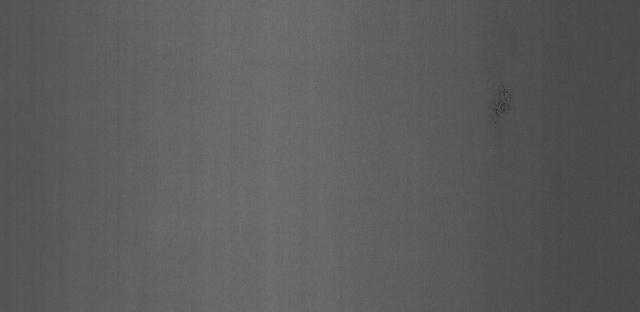inclusion: (483, 86, 521, 135)
